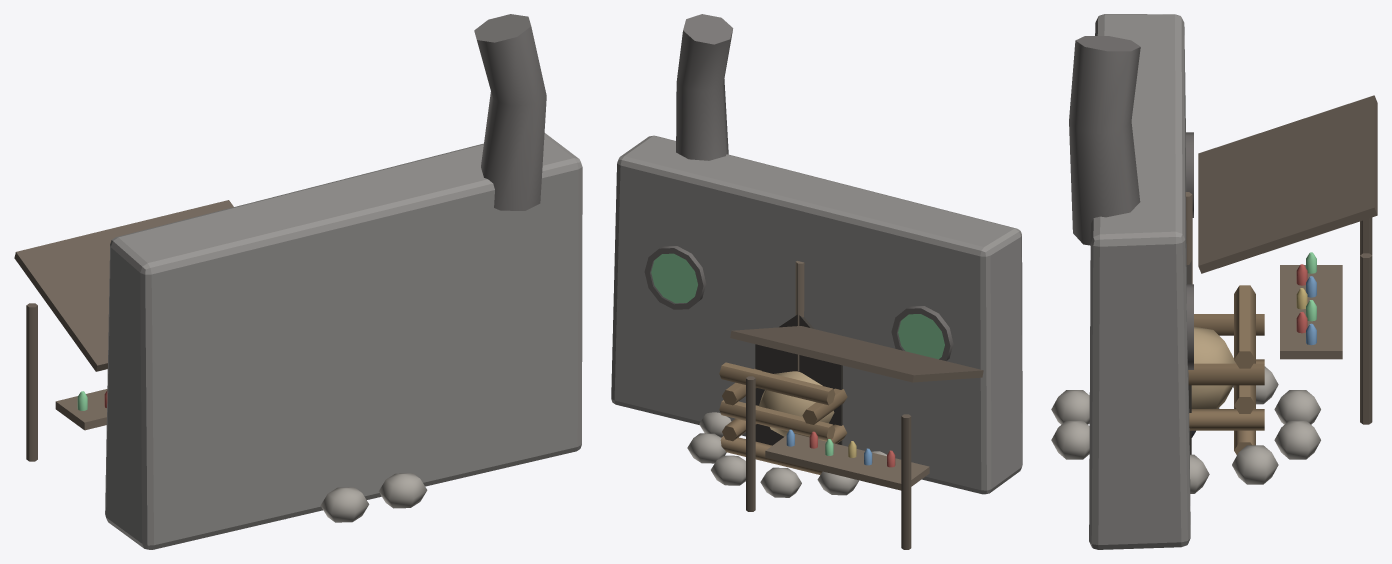
Rendered from ceniza.glb.
The picture shows the model from 3 angles, left to right: view 1: azimuth 30°, elevation 25°; view 2: azimuth 150°, elevation 25°; view 3: azimuth 270°, elevation 25°; orthographic projection. The views are drawn at different scales.
Visible parts, largest first — view 1: workshop, beacon; view 2: workshop, beacon; view 3: workshop, beacon.
Boxes of the visible parts, x1,y1,x2,y2 form: workshop: (14,14,582,549); beacon: (285,473,427,522); workshop: (611,14,1022,549); beacon: (687,261,886,497); workshop: (1069,14,1377,549); beacon: (1051,192,1320,493).
Bounding box in the file's own units: 7.05 × 6.79 × 4.17.
